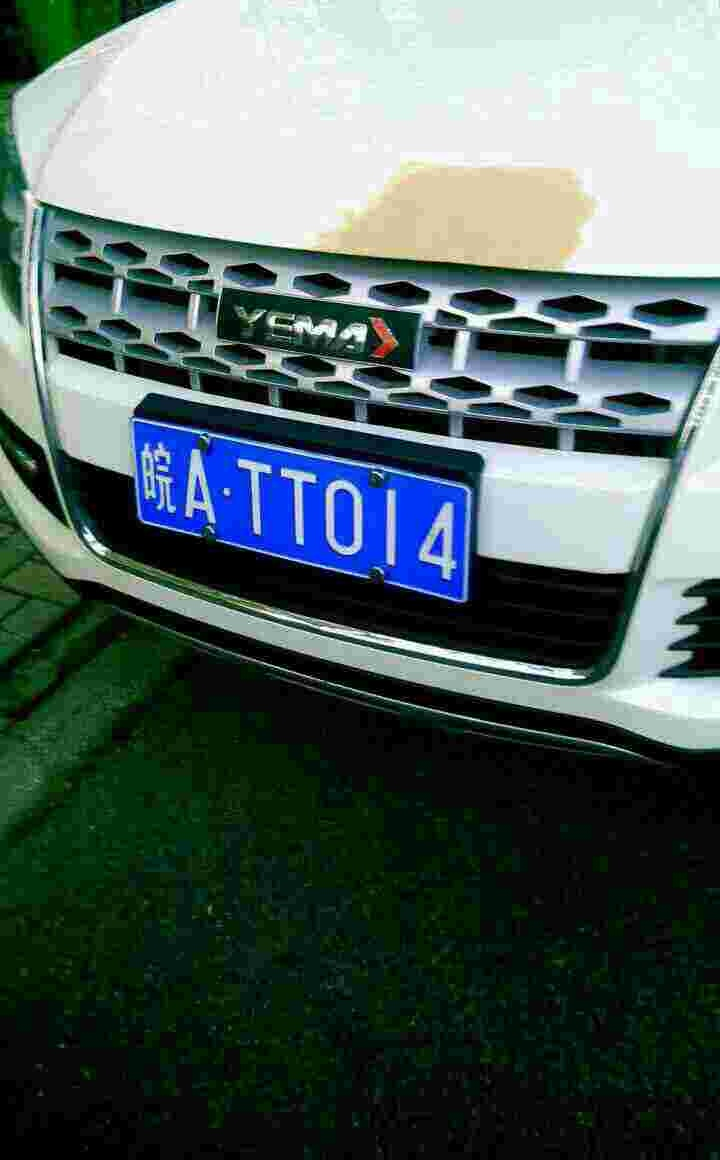license_plate: (126, 402, 494, 589)
